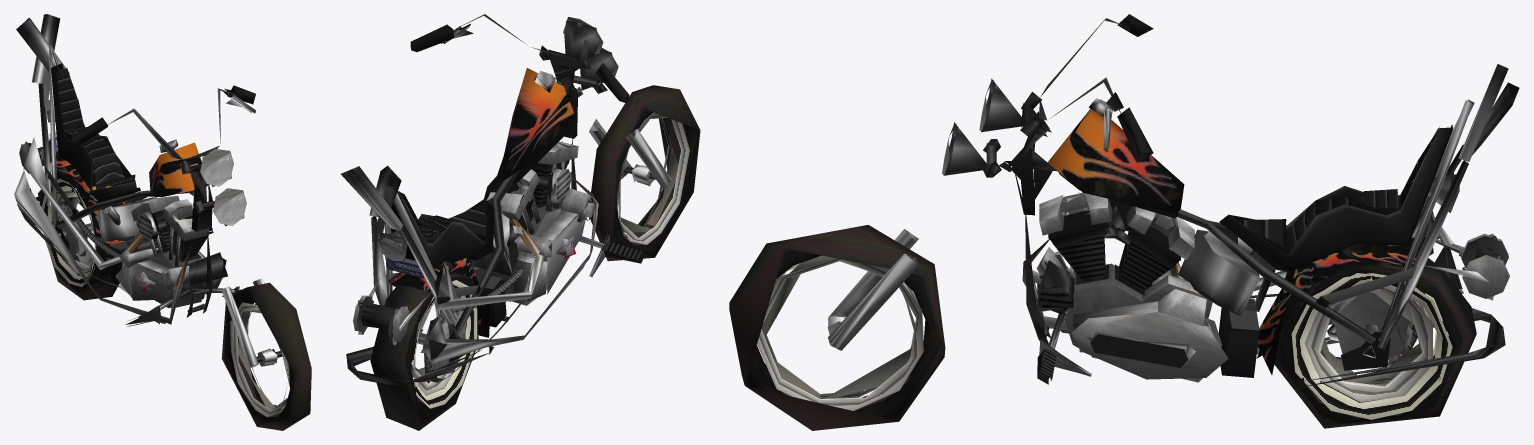
File: motorcycle lod 1.fbx
The picture shows the model from 3 angles, left to right: view 1: azimuth 30°, elevation 25°; view 2: azimuth 150°, elevation 25°; view 3: azimuth 270°, elevation 25°; orthographic projection. The views are drawn at different scales.
Parts seen in each view (by area): view 1: knuckles_chopper_LOD0; view 2: knuckles_chopper_LOD0; view 3: knuckles_chopper_LOD0.
Boxes of the visible parts, box(x1,y1,x2,y2) form: knuckles_chopper_LOD0: box(14, 14, 311, 430); knuckles_chopper_LOD0: box(341, 14, 700, 430); knuckles_chopper_LOD0: box(729, 14, 1519, 430).
Bounding box in the file's own units: 98.73 × 133 × 252.
Materials: 1 (1 with a texture image).
